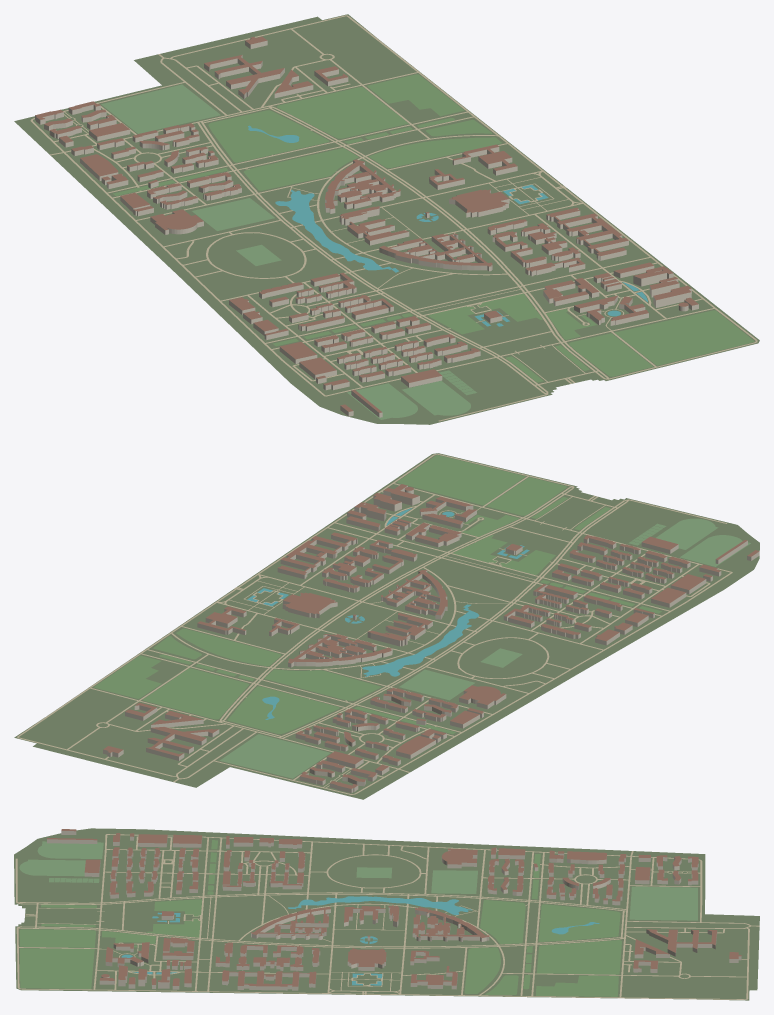
3 views of the same model, one above another, from view 1: azimuth 30°, elevation 25°; view 2: azimuth 150°, elevation 25°; view 3: azimuth 270°, elevation 25° (orthographic). The views are drawn at different scales.
Visible parts, largest first — view 1: campus-ground, environment (×4), buildings, roofs; view 2: campus-ground, environment (×4), buildings, roofs; view 3: campus-ground, environment (×4), roofs, buildings.
Part boxes in pixels (x1,y1,x2,y2): campus-ground: (14, 14, 759, 424); environment (×4): (30, 15, 757, 421); buildings: (35, 38, 698, 417); roofs: (35, 36, 698, 412); campus-ground: (14, 453, 759, 799); environment (×4): (17, 454, 750, 794); buildings: (103, 486, 759, 793); roofs: (103, 484, 759, 788); campus-ground: (14, 828, 759, 1000); environment (×4): (15, 834, 759, 999); roofs: (47, 829, 741, 986); buildings: (47, 831, 741, 990).
Size of the model in its own units: 1128 by 20 by 2065.
